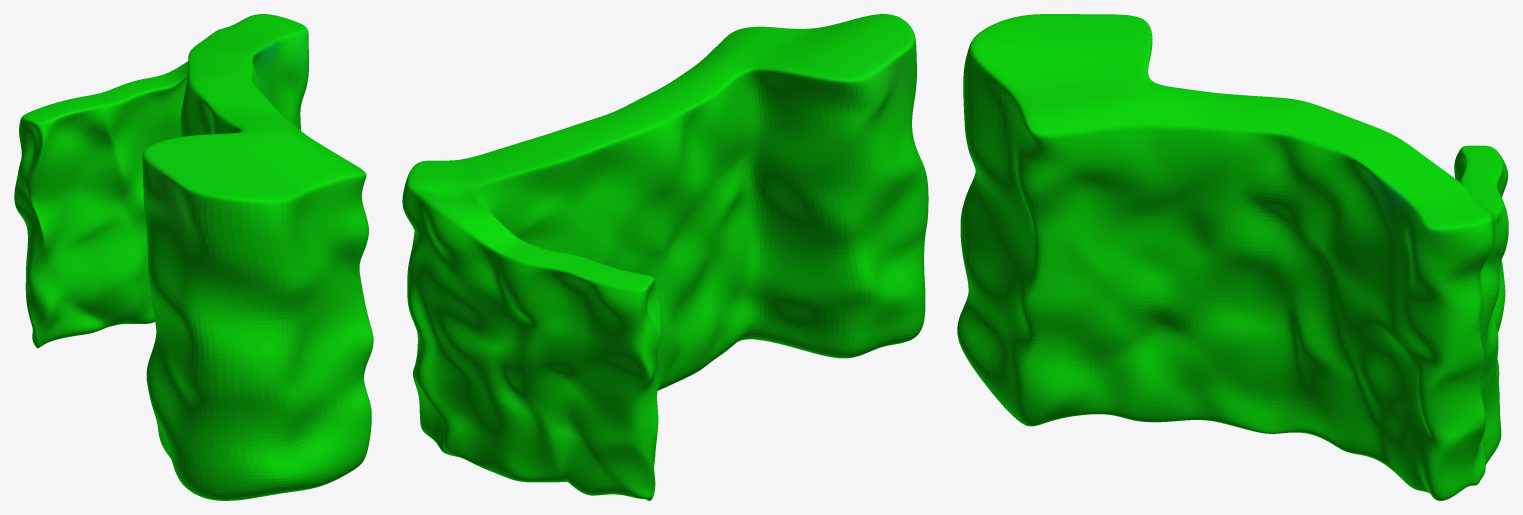
File: level_one_rock_wall_6.fbx
3 views of the same model, side by side, from view 1: azimuth 30°, elevation 25°; view 2: azimuth 150°, elevation 25°; view 3: azimuth 270°, elevation 25° (orthographic). The views are drawn at different scales.
Visible parts, largest first — view 1: RockWall06; view 2: RockWall06; view 3: RockWall06.
Boxes of the visible parts, left/top/right/bottom form: RockWall06: left=14, top=14, right=373, bottom=500; RockWall06: left=402, top=14, right=928, bottom=500; RockWall06: left=957, top=14, right=1508, bottom=500.
Size of the model in its own units: 2720 by 2672 by 3885.
